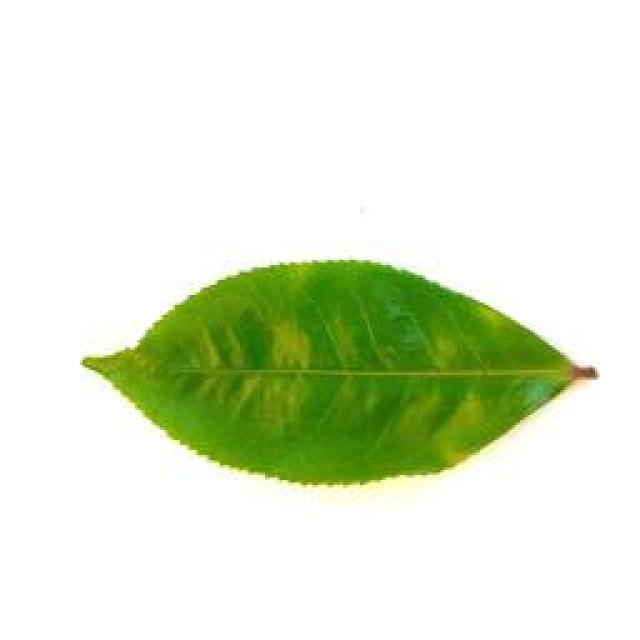Healthy: (76, 258, 607, 488)
